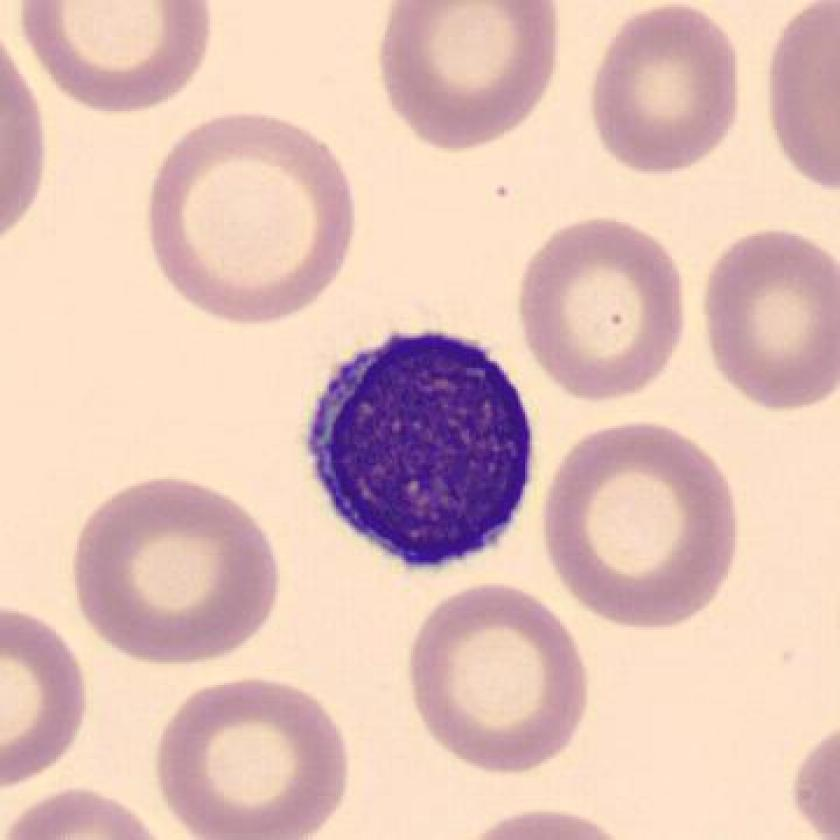lymphocyte: (295, 311, 556, 589)
